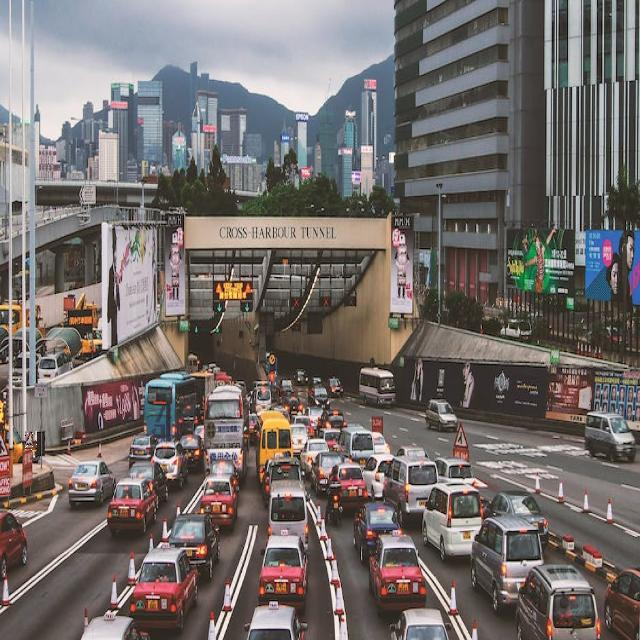hump: (25, 431, 37, 450)
